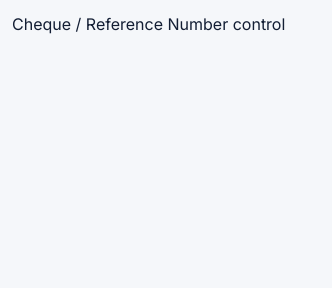
Test: PaymentForm locked-field tooltips › shows the unlock explanation for the {"field":"Cheque / Reference Number","note":"Reference data is frozen so you don't tweak it while the same invariant-violat
The image size is (332, 288).
Focus the element showing "Cheque / Reference Number control" at coordinates (149, 24), box [12,12,285,36]
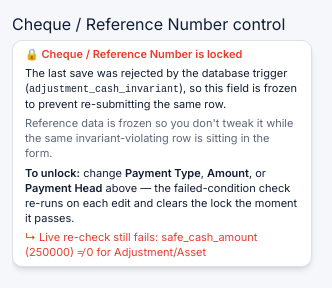
Expected: the text "adjustment_cash_invariant" is shown, [29,84,179,95]
Expected: the text "rejected by the database trigger" is shown, [25,66,287,95]
Expected: the text "Reference data is frozen so you don't tweak it while the same invariant-violating row is sitting in the form." is shown, [25,116,293,160]
